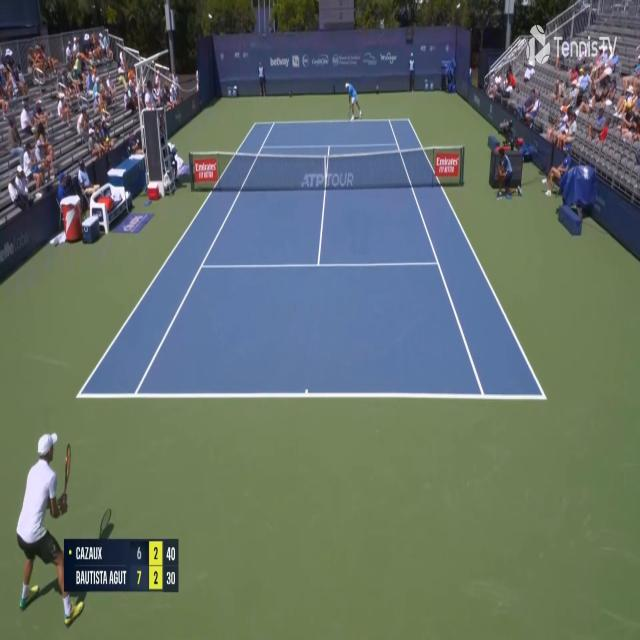tennis-player: (10, 427, 87, 636), (343, 77, 362, 122)
